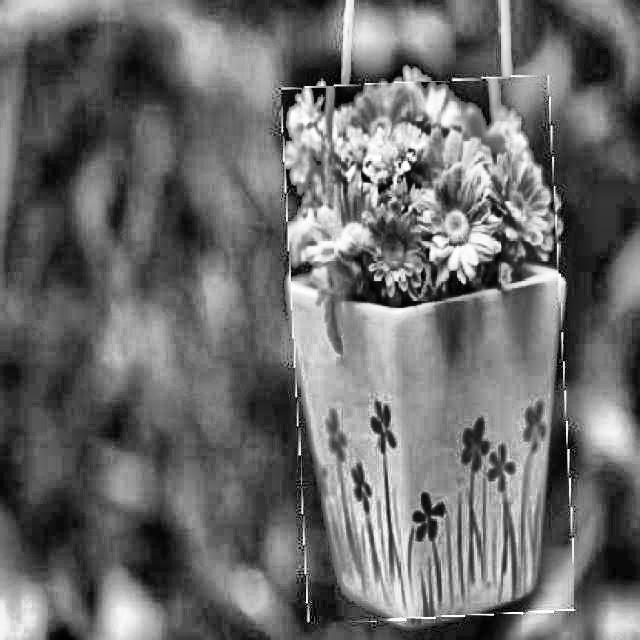plants: (289, 78, 569, 620)
